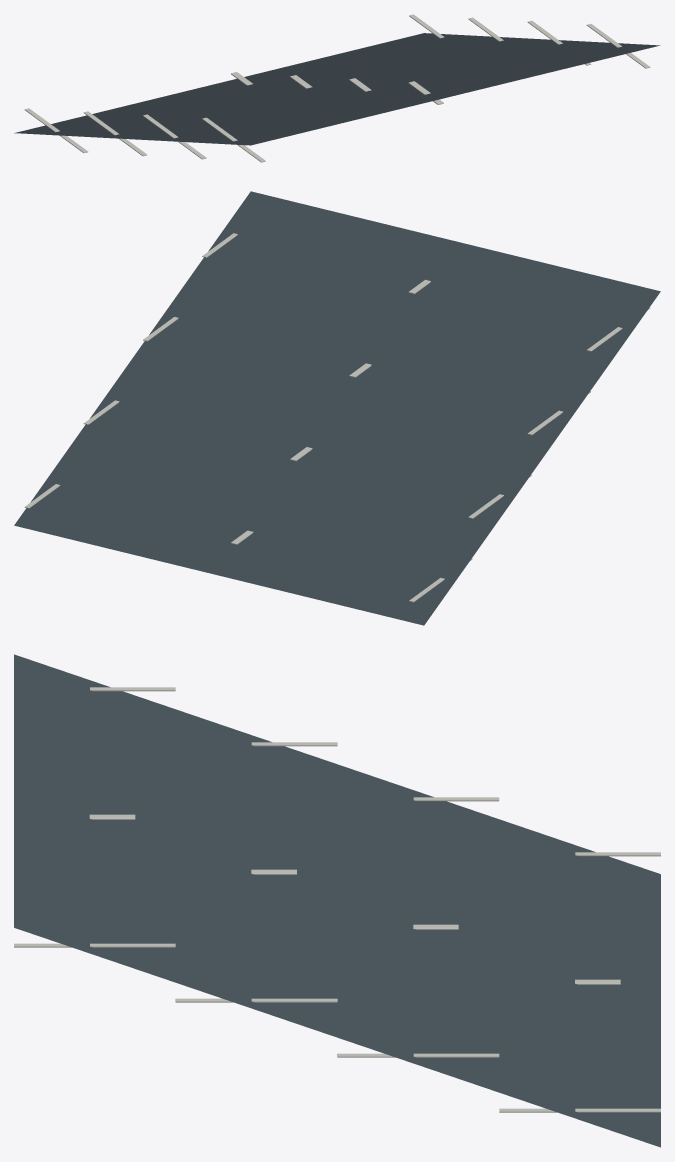
Rendered from landscape-road-ramp.lod0.glb.
3 views of the same model, one above another, from view 1: azimuth 30°, elevation 25°; view 2: azimuth 150°, elevation 25°; view 3: azimuth 270°, elevation 25° (orthographic). The views are drawn at different scales.
Visible parts, largest first — view 1: landscape-road-ramp__body; view 2: landscape-road-ramp__body; view 3: landscape-road-ramp__body.
Boxes of the visible parts, left/top/right/bottom form: landscape-road-ramp__body: left=14, top=14, right=660, bottom=162; landscape-road-ramp__body: left=14, top=191, right=660, bottom=625; landscape-road-ramp__body: left=14, top=654, right=660, bottom=1147.
Bounding box in the file's own units: 8 × 3 × 8.
